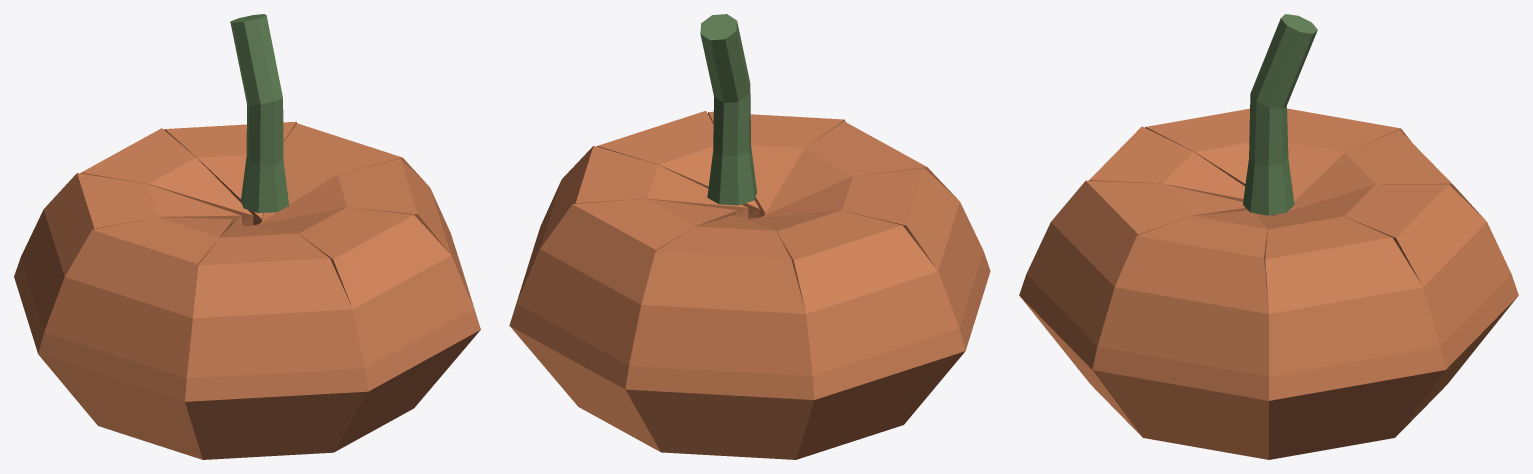
Rendered from Pumpkin_shatter.fbx.
3 views of the same model, side by side, from view 1: azimuth 30°, elevation 25°; view 2: azimuth 150°, elevation 25°; view 3: azimuth 270°, elevation 25° (orthographic). The views are drawn at different scales.
Visible parts, largest first — view 1: Pumpkin_shatter.006, Pumpkin_shatter.007, Pumpkin_shatter.005, Pumpkin_shatter.008, Pumpkin_shatter.001, Pumpkin_shatter.003, Pumpkin_shatter.009, Pumpkin_shatter.004, Pumpkin_shatter.010; view 2: Pumpkin_shatter.009, Pumpkin_shatter.008, Pumpkin_shatter.010, Pumpkin_shatter.007, Pumpkin_shatter.001, Pumpkin_shatter.004, Pumpkin_shatter.006, Pumpkin_shatter.003, Pumpkin_shatter.005; view 3: Pumpkin_shatter.003, Pumpkin_shatter.004, Pumpkin_shatter.005, Pumpkin_shatter.010, Pumpkin_shatter.001, Pumpkin_shatter.006, Pumpkin_shatter.009, Pumpkin_shatter.008, Pumpkin_shatter.007.
Part boxes in pixels (bbox=[...]): Pumpkin_shatter.006: bbox=[185, 224, 368, 459]; Pumpkin_shatter.007: bbox=[38, 217, 233, 459]; Pumpkin_shatter.005: bbox=[249, 207, 480, 452]; Pumpkin_shatter.008: bbox=[14, 173, 241, 353]; Pumpkin_shatter.001: bbox=[230, 14, 288, 213]; Pumpkin_shatter.003: bbox=[259, 159, 474, 308]; Pumpkin_shatter.009: bbox=[80, 128, 253, 226]; Pumpkin_shatter.004: bbox=[262, 123, 428, 221]; Pumpkin_shatter.010: bbox=[164, 121, 296, 225]; Pumpkin_shatter.009: bbox=[625, 215, 814, 459]; Pumpkin_shatter.008: bbox=[745, 210, 965, 459]; Pumpkin_shatter.010: bbox=[509, 199, 737, 451]; Pumpkin_shatter.007: bbox=[759, 168, 990, 350]; Pumpkin_shatter.001: bbox=[700, 14, 756, 205]; Pumpkin_shatter.004: bbox=[516, 145, 748, 302]; Pumpkin_shatter.006: bbox=[764, 121, 956, 215]; Pumpkin_shatter.003: bbox=[597, 111, 759, 218]; Pumpkin_shatter.005: bbox=[707, 112, 845, 217]; Pumpkin_shatter.003: bbox=[1092, 210, 1268, 459]; Pumpkin_shatter.004: bbox=[1257, 215, 1445, 459]; Pumpkin_shatter.005: bbox=[1019, 180, 1259, 436]; Pumpkin_shatter.010: bbox=[1275, 184, 1518, 436]; Pumpkin_shatter.001: bbox=[1243, 14, 1317, 215]; Pumpkin_shatter.006: bbox=[1089, 126, 1262, 214]; Pumpkin_shatter.009: bbox=[1289, 130, 1484, 219]; Pumpkin_shatter.008: bbox=[1287, 108, 1411, 200]; Pumpkin_shatter.007: bbox=[1145, 108, 1276, 215].
Bounding box in the file's own units: 263 × 222 × 263.
